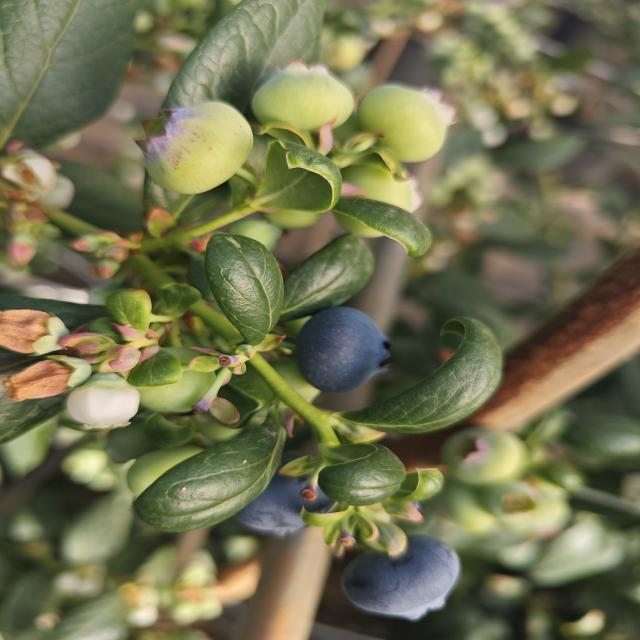ripe: (334, 531, 476, 623), (292, 306, 400, 393), (231, 470, 340, 536)
